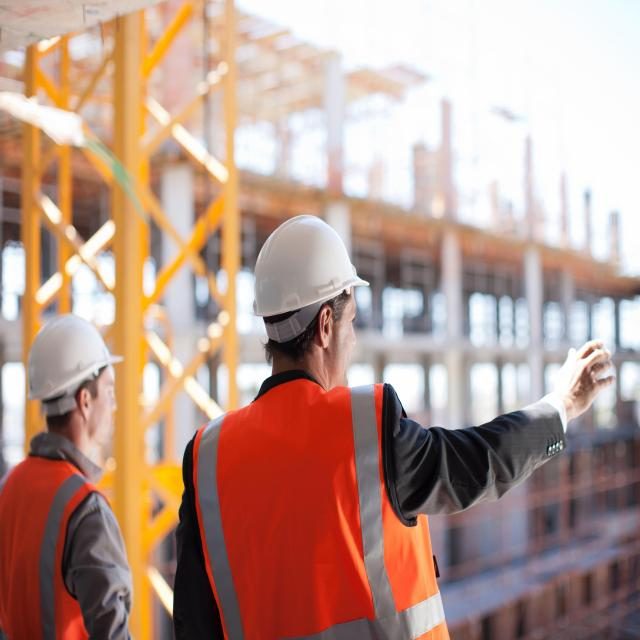Reflective-Jacket: (177, 375, 452, 640), (0, 448, 129, 640)
Safety-Helmet: (247, 208, 369, 326), (22, 307, 123, 406)
